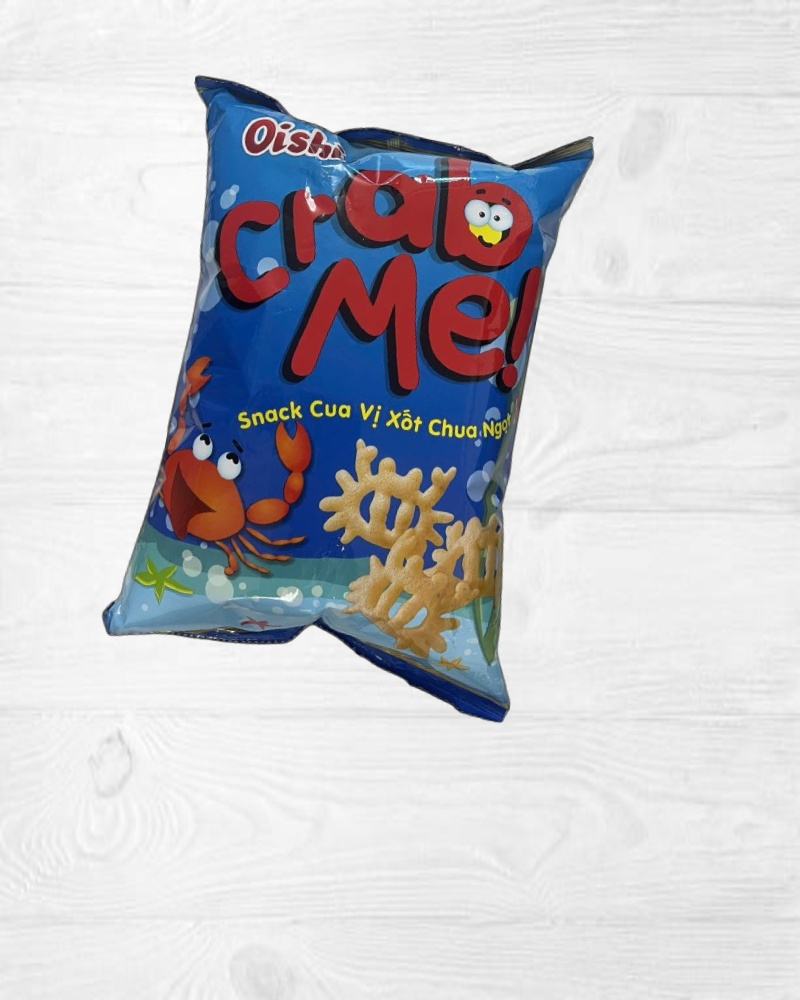Snack chay: (95, 68, 610, 726)
